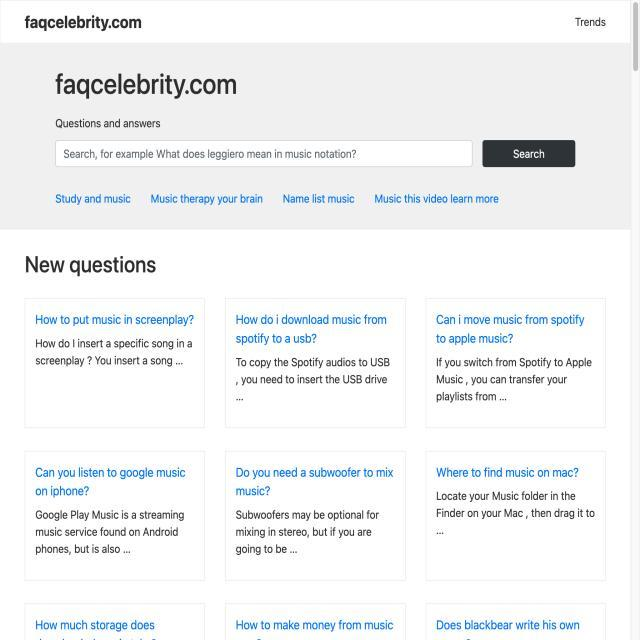button: (480, 130, 580, 175)
input field: (49, 136, 475, 175)
link: (53, 58, 243, 114), (29, 450, 194, 502), (435, 308, 604, 347), (229, 462, 409, 497), (232, 309, 397, 344), (27, 303, 203, 335), (9, 7, 165, 38), (432, 607, 582, 637), (230, 614, 390, 640), (34, 612, 184, 636), (419, 464, 586, 484), (149, 184, 269, 204), (369, 192, 501, 209), (53, 190, 135, 207), (280, 187, 353, 206)
